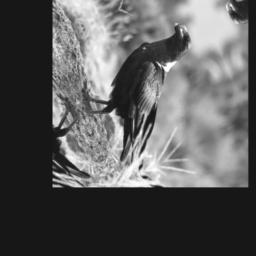Crow: (67, 15, 226, 175)
